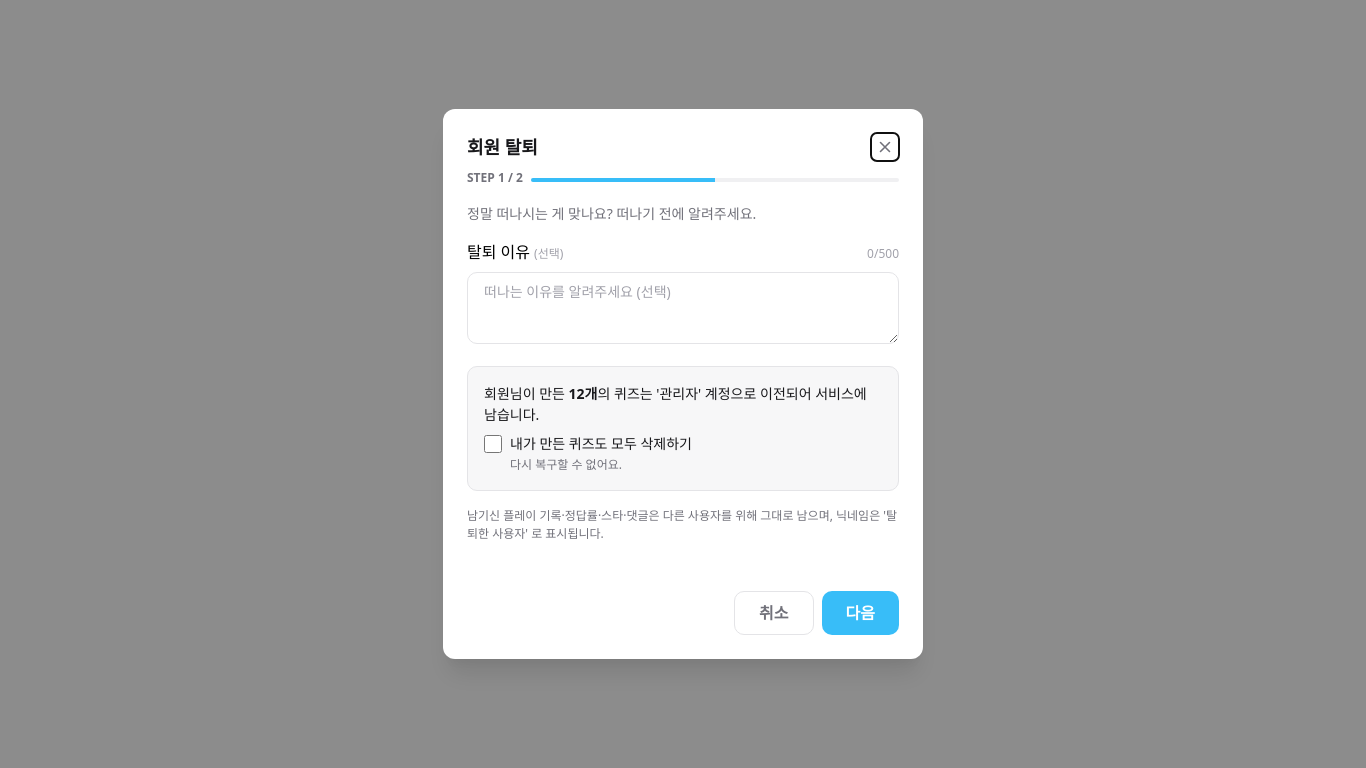
Scenario: WithdrawConfirmModal › Step 1 — textarea 카운터 › 입력 시 카운터가 갱신된다
Step 1. Type "안녕" into the text box named "탈퇴 이유" → [683, 308], box left=467, top=272, right=899, bottom=344
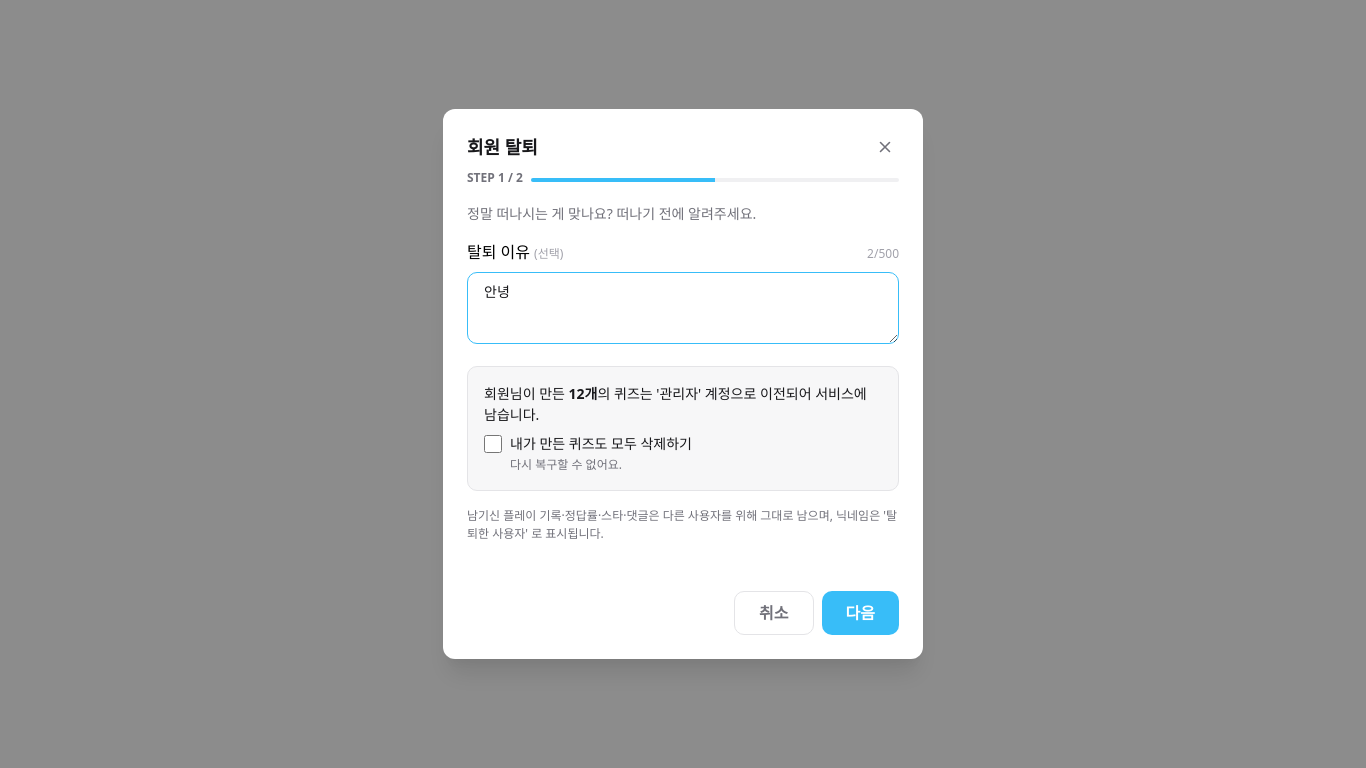
expect the text "2/500" is shown: met, box left=867, top=245, right=899, bottom=263
